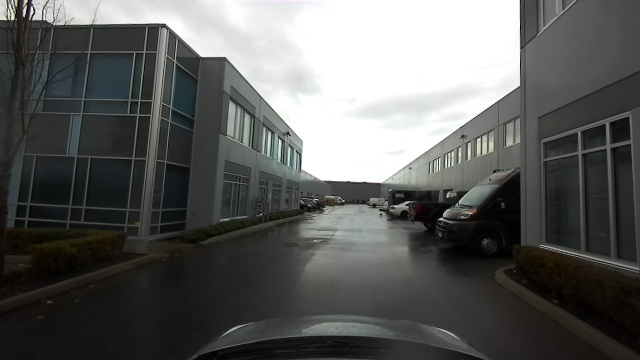car: (437, 165, 518, 255), (403, 198, 435, 225), (382, 189, 438, 198), (387, 199, 409, 219), (368, 196, 388, 208), (301, 197, 315, 210), (337, 196, 345, 205)
